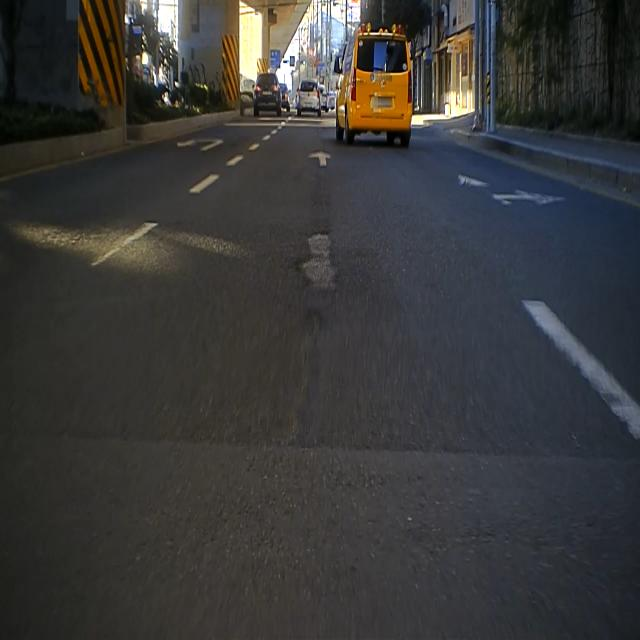Pothole: (301, 220, 339, 298)
